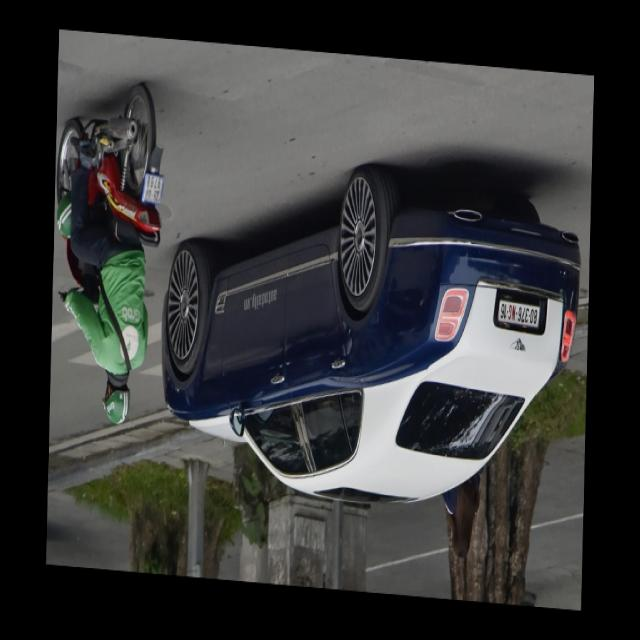bien_ngoai_giao: (495, 298, 539, 336)
bien_trang: (140, 167, 162, 206)
